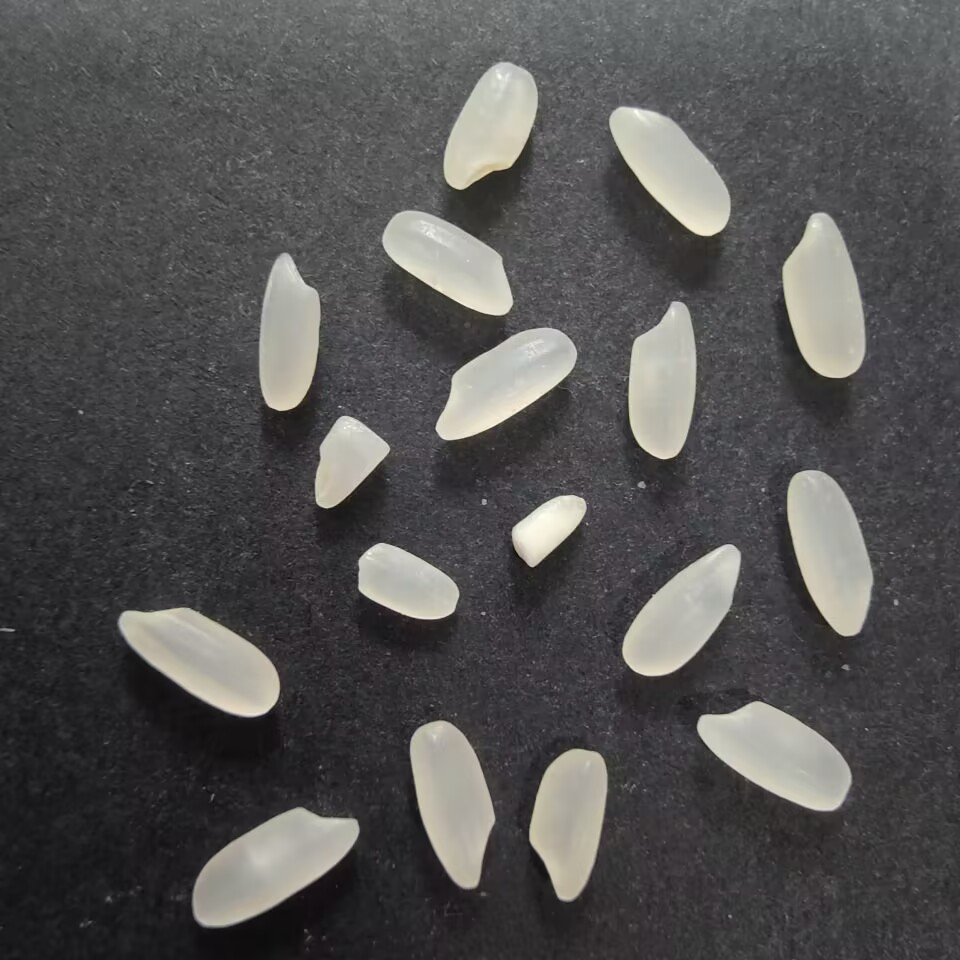broken: (353, 537, 466, 625), (307, 411, 392, 515), (504, 487, 592, 572)
rice: (188, 798, 368, 935), (111, 603, 284, 720), (692, 694, 859, 814), (604, 101, 737, 240), (620, 538, 749, 680), (431, 325, 583, 441), (783, 465, 881, 641), (774, 209, 870, 386), (405, 715, 499, 895), (375, 206, 519, 319), (523, 743, 618, 905), (621, 295, 705, 465), (441, 57, 545, 194), (255, 249, 328, 414)
